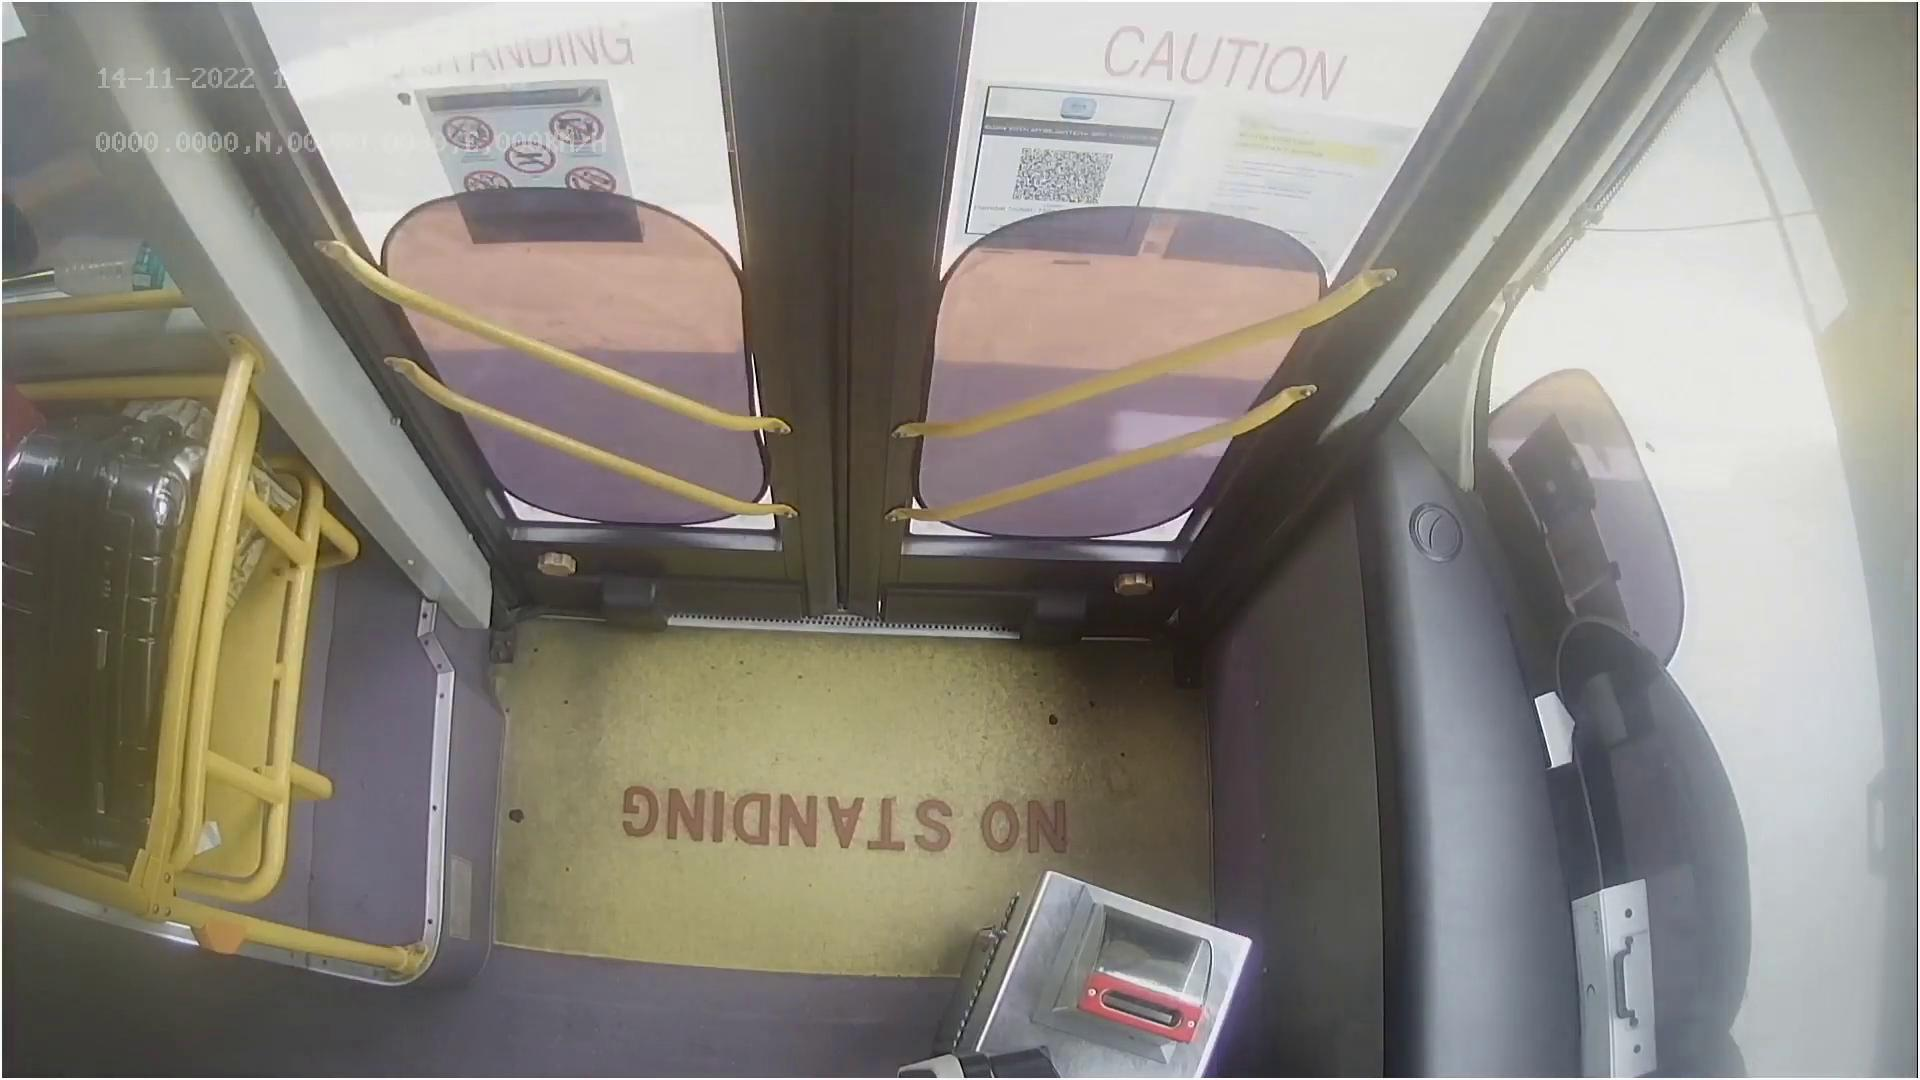close: (282, 0, 1445, 164)
